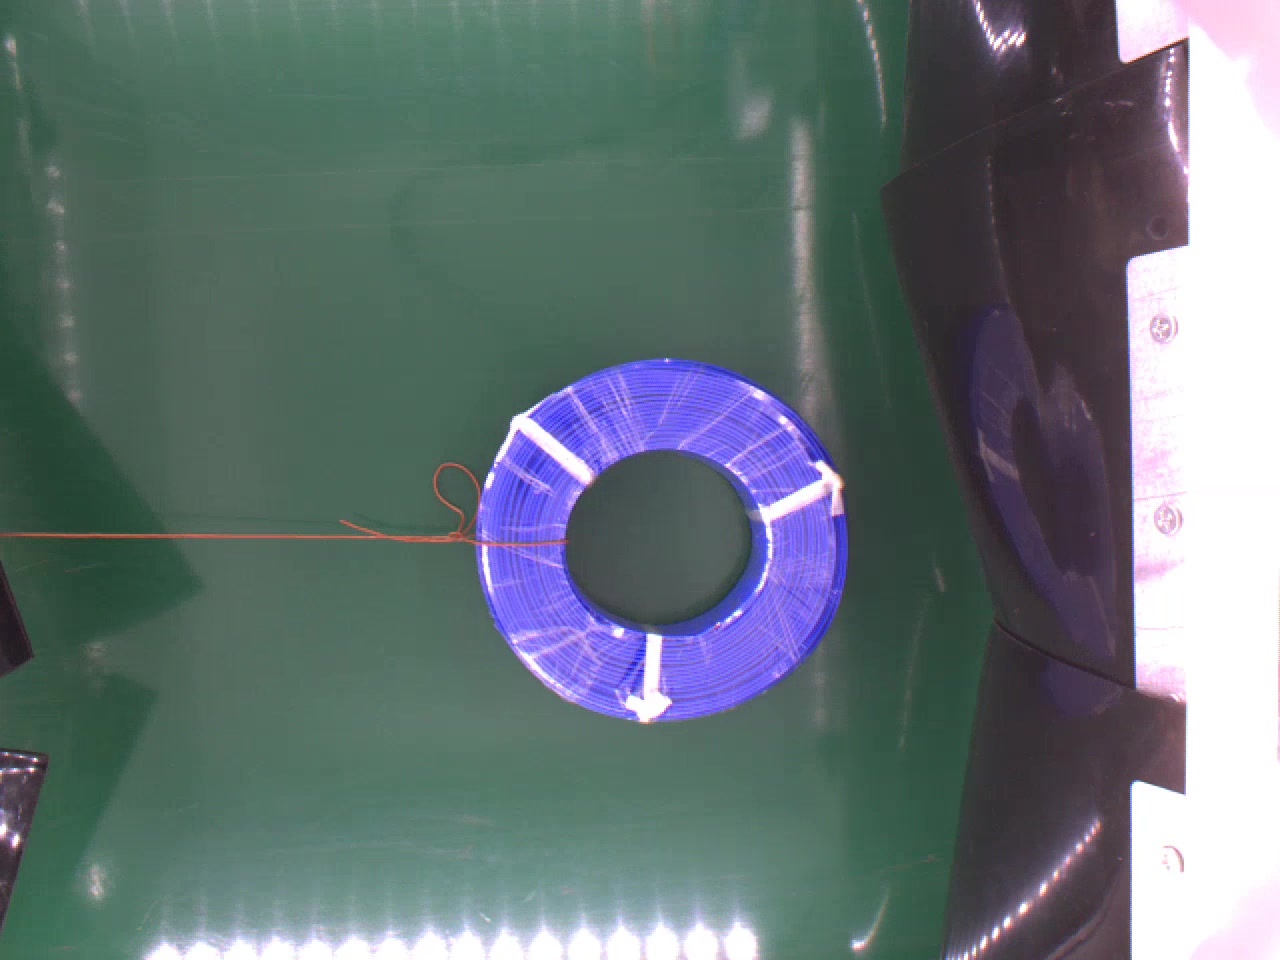blue: (483, 356, 861, 715)
